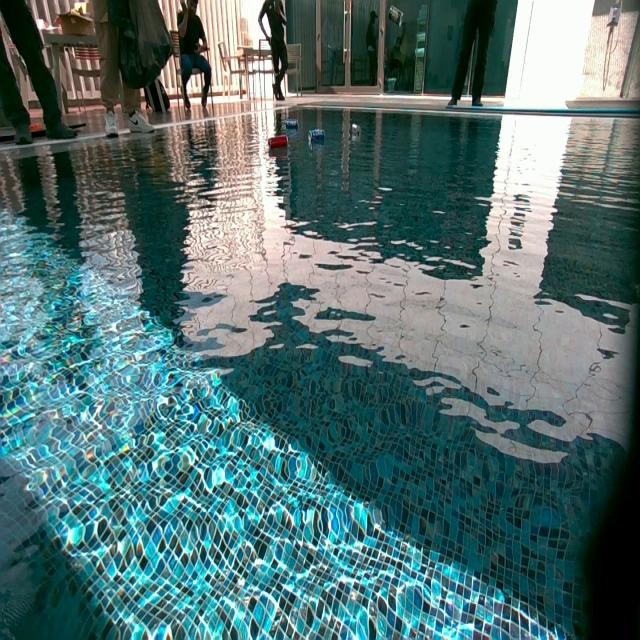Cans: (309, 130, 327, 146), (269, 135, 288, 149), (351, 124, 362, 136), (286, 120, 299, 129)
